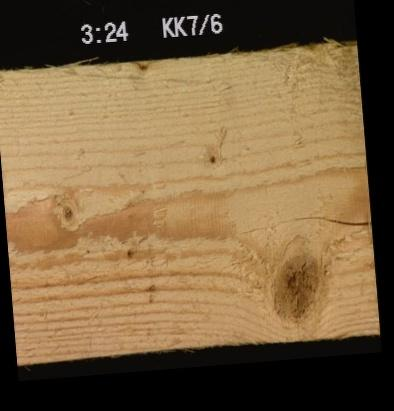small_knot: (56, 196, 77, 224), (133, 58, 152, 71), (206, 150, 217, 163)
sound_knot: (269, 249, 321, 320)
split: (294, 210, 370, 226)
